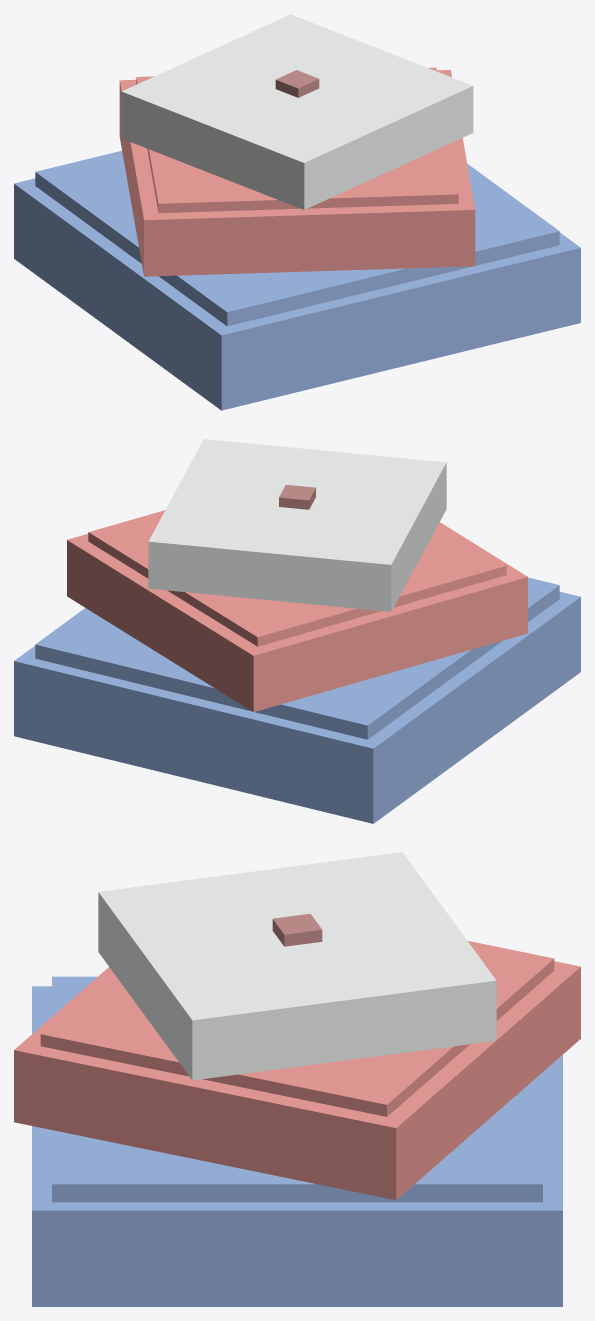
Rendered from poufCushions.glb.
The picture shows the model from 3 angles, top to bottom: view 1: azimuth 30°, elevation 25°; view 2: azimuth 150°, elevation 25°; view 3: azimuth 270°, elevation 25°; orthographic projection. The views are drawn at different scales.
Parts seen in each view (by area): view 1: poufCushions; view 2: poufCushions; view 3: poufCushions.
Part boxes in pixels (left/top/right/bottom): poufCushions: left=14, top=14, right=580, bottom=410; poufCushions: left=14, top=439, right=580, bottom=823; poufCushions: left=14, top=852, right=580, bottom=1306.
Bounding box in the file's own units: 0.4273 × 0.225 × 0.4273.
